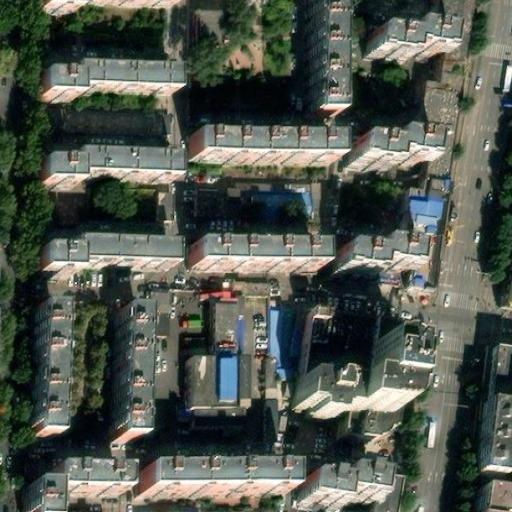building: (391, 0, 475, 301), (34, 61, 176, 107), (31, 143, 172, 188), (299, 323, 375, 399), (29, 453, 125, 512), (35, 231, 173, 270), (144, 473, 282, 506), (187, 359, 244, 432), (350, 363, 405, 437), (189, 228, 316, 260), (23, 307, 53, 436), (188, 124, 335, 150), (110, 306, 134, 439), (336, 239, 415, 274), (302, 468, 376, 505), (367, 25, 446, 58), (356, 133, 435, 166), (299, 389, 355, 435), (472, 408, 504, 484), (482, 345, 512, 411), (192, 188, 238, 220), (209, 302, 233, 359), (265, 304, 289, 358), (370, 334, 405, 368), (358, 483, 397, 512), (197, 9, 226, 47), (147, 289, 169, 330), (470, 491, 512, 512), (151, 189, 171, 225)
